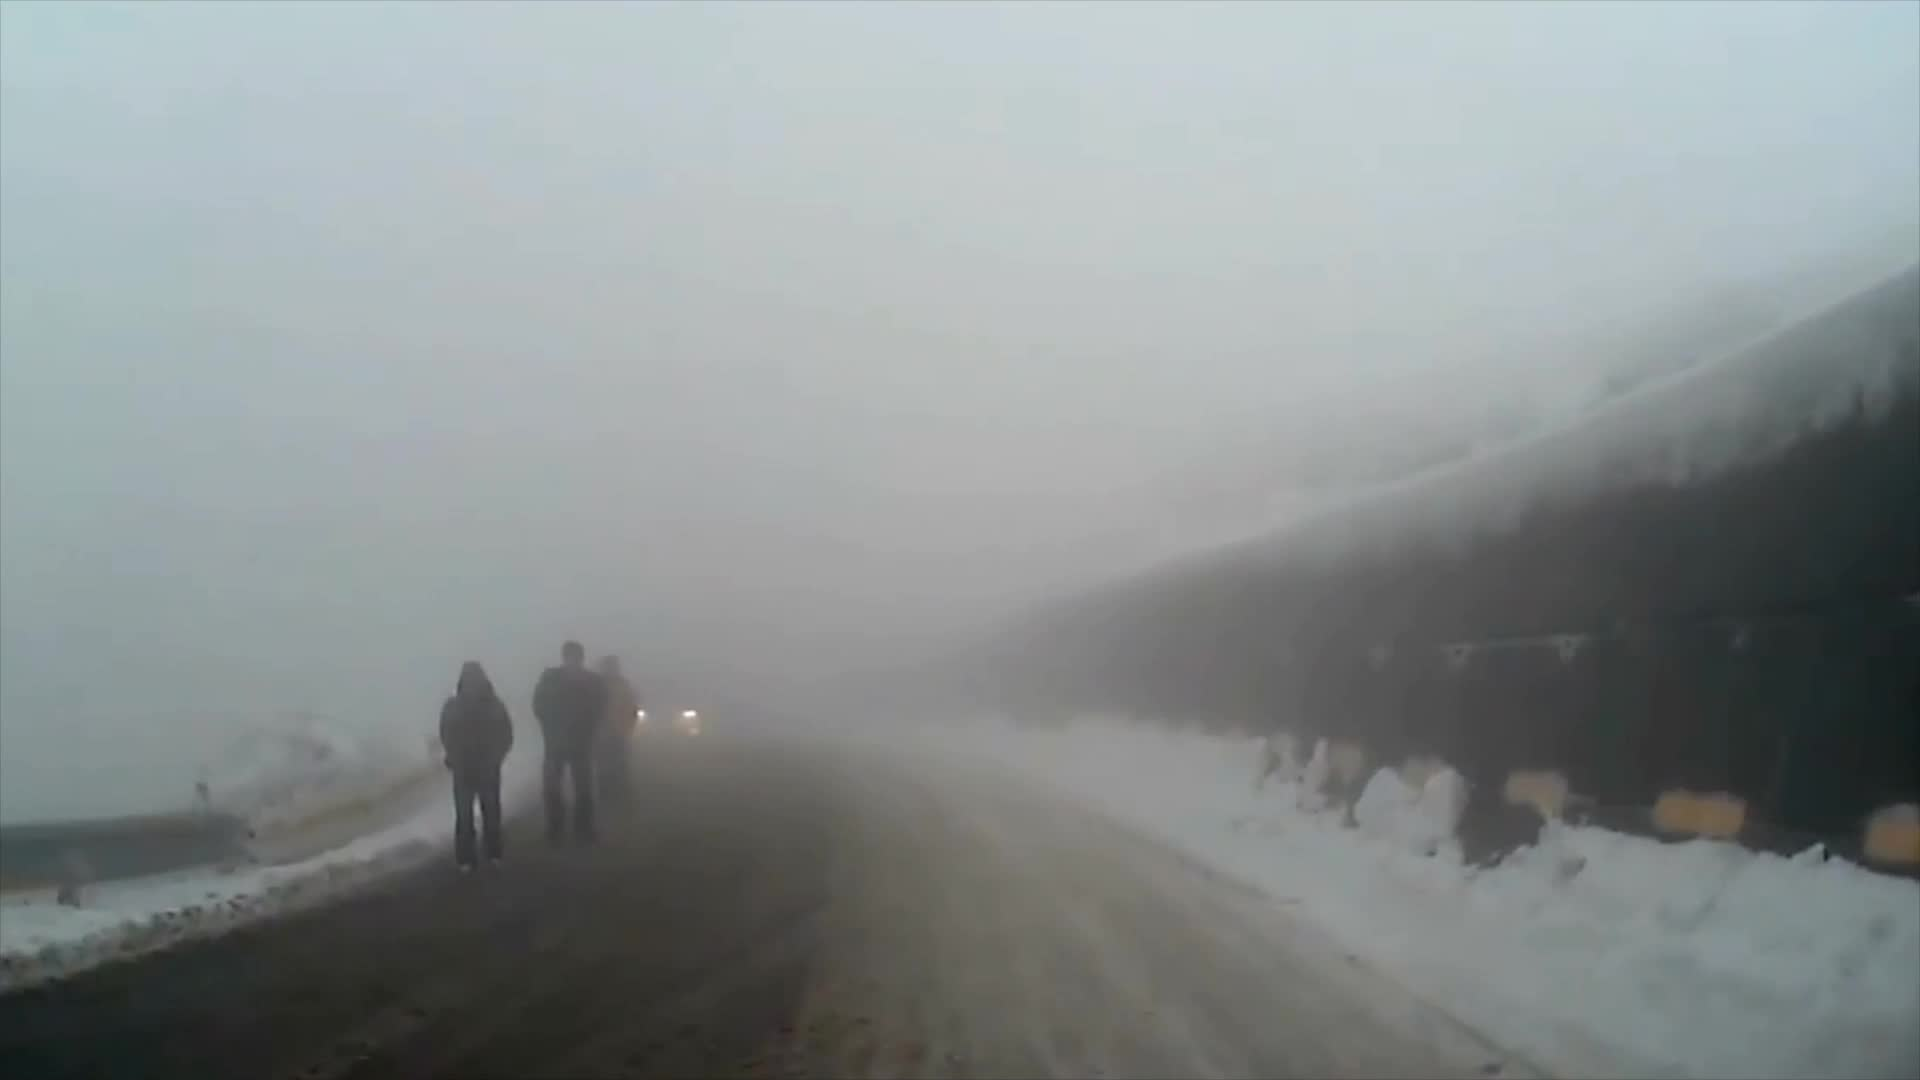pedestrian: (434, 657, 520, 879), (531, 640, 608, 846), (587, 655, 645, 821)
